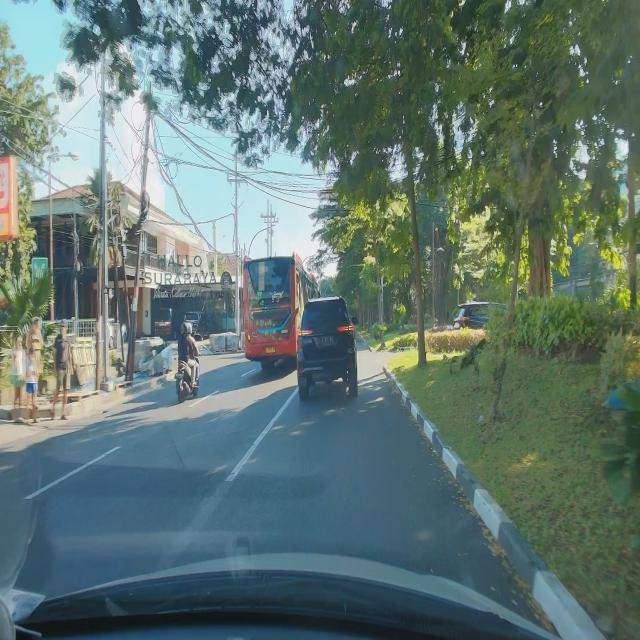bus: (242, 252, 320, 372)
car: (296, 294, 358, 401)
license-plate: (317, 335, 334, 346), (265, 346, 276, 353)
